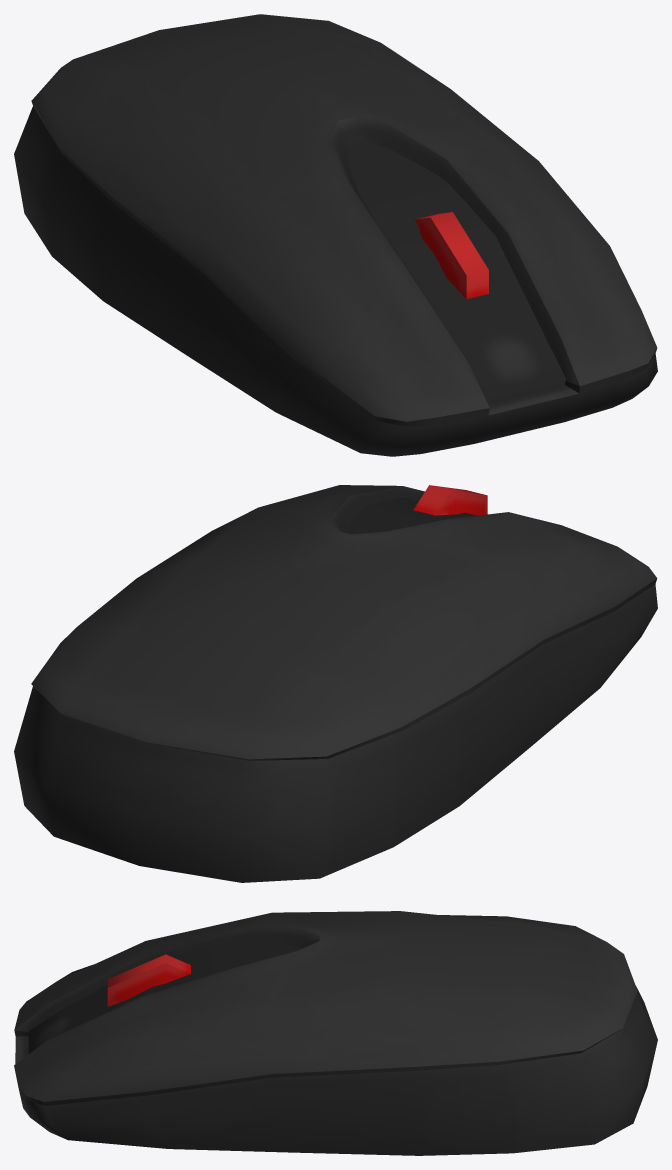
File: Mouse.fbx
3 renders of one model, top to bottom at view 1: azimuth 30°, elevation 25°; view 2: azimuth 150°, elevation 25°; view 3: azimuth 270°, elevation 25°, orthographic. The views are drawn at different scales.
Visible parts, largest first — view 1: Mouse; view 2: Mouse; view 3: Mouse.
Part boxes in pixels (x1,y1,x2,y2): Mouse: (14,14,657,456); Mouse: (14,485,657,882); Mouse: (14,911,657,1155).
Size of the model in its own units: 5.85 by 2.79 by 11.02.
